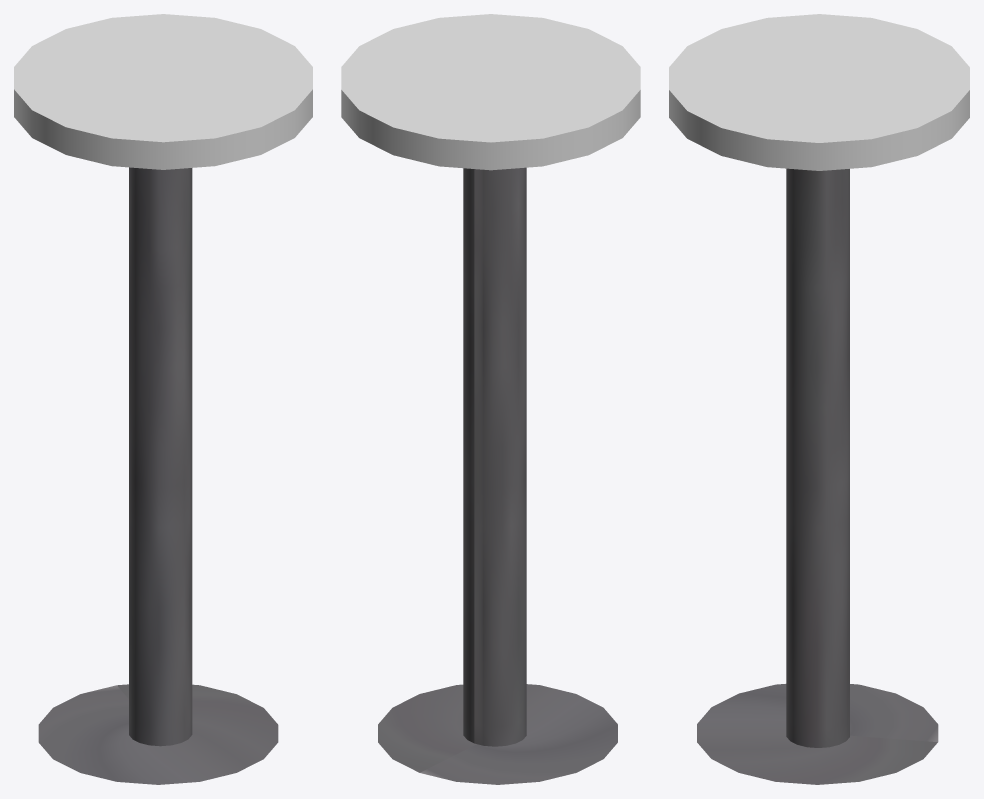
The model's file is Long table.FBX.
3 renders of one model, left to right at view 1: azimuth 30°, elevation 25°; view 2: azimuth 150°, elevation 25°; view 3: azimuth 270°, elevation 25°, orthographic.
Visible parts, largest first — view 1: Cylinder001, Cylinder002, Cylinder003; view 2: Cylinder001, Cylinder002, Cylinder003; view 3: Cylinder001, Cylinder002, Cylinder003.
Boxes of the visible parts, bbox=[...] form: Cylinder001: bbox=[14, 14, 312, 169]; Cylinder002: bbox=[129, 167, 192, 746]; Cylinder003: bbox=[38, 684, 278, 784]; Cylinder001: bbox=[341, 14, 640, 170]; Cylinder002: bbox=[463, 167, 526, 746]; Cylinder003: bbox=[378, 684, 617, 784]; Cylinder001: bbox=[669, 14, 969, 170]; Cylinder002: bbox=[786, 168, 849, 747]; Cylinder003: bbox=[697, 684, 938, 784].
Bounding box in the file's own units: 36.92 × 87.67 × 36.36.
